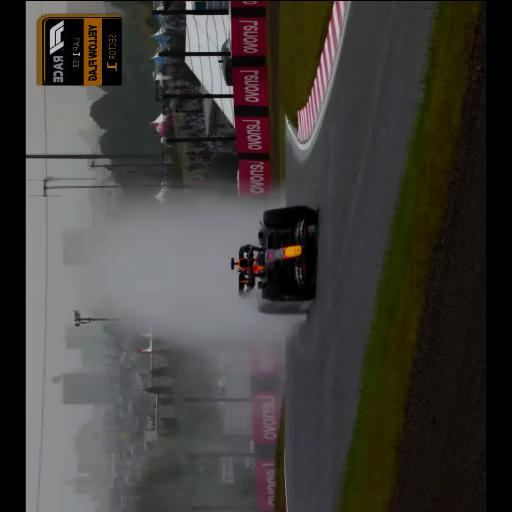f1_car: (230, 205, 316, 313)
